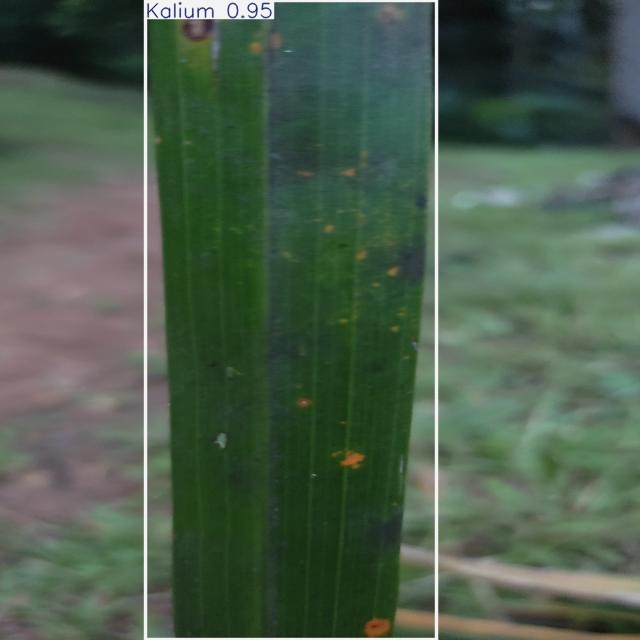Kalium: (146, 0, 436, 640)
